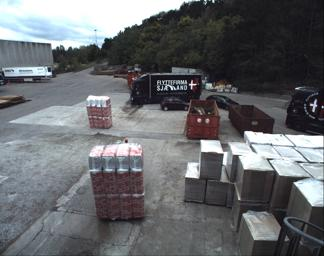rockwool_batts: (88, 143, 144, 219), (87, 96, 112, 126)
